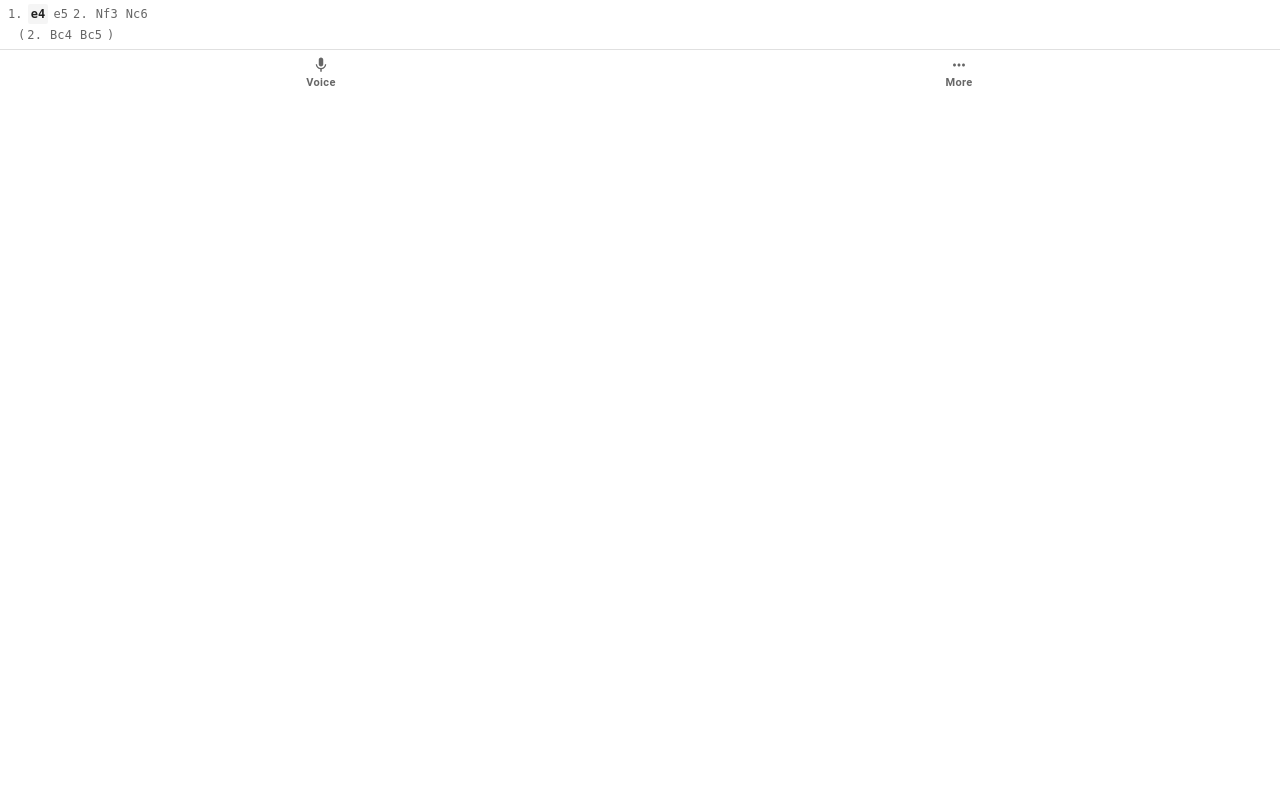
Test: Recording a voice note › mobile: the action sheet and the fixed action bar open the recorder in the sheet
Expected: the button labelled "Voice" is shown, [4,52,638,93]
Click the button labelled "More": (959, 73) [642,52,1276,93]
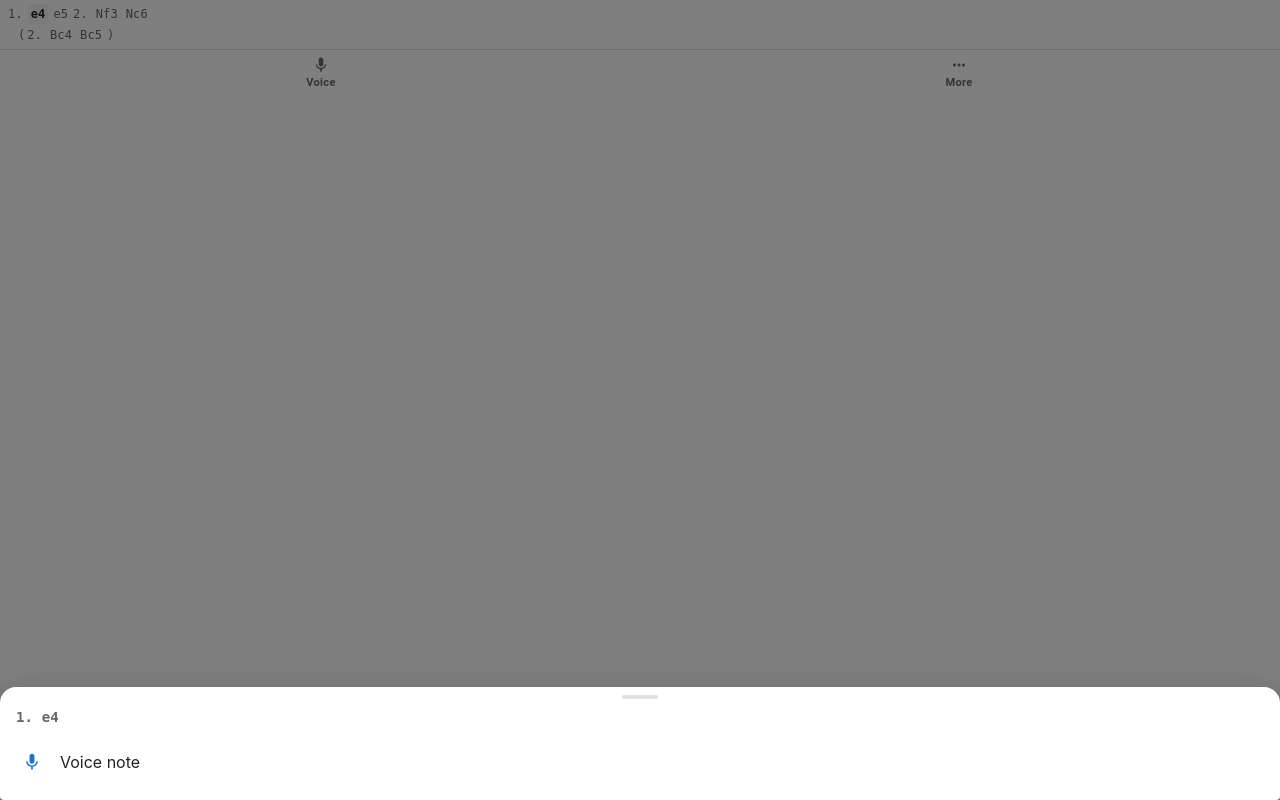
Click the menu item "Voice note": (100, 762) [8,736,1272,788]
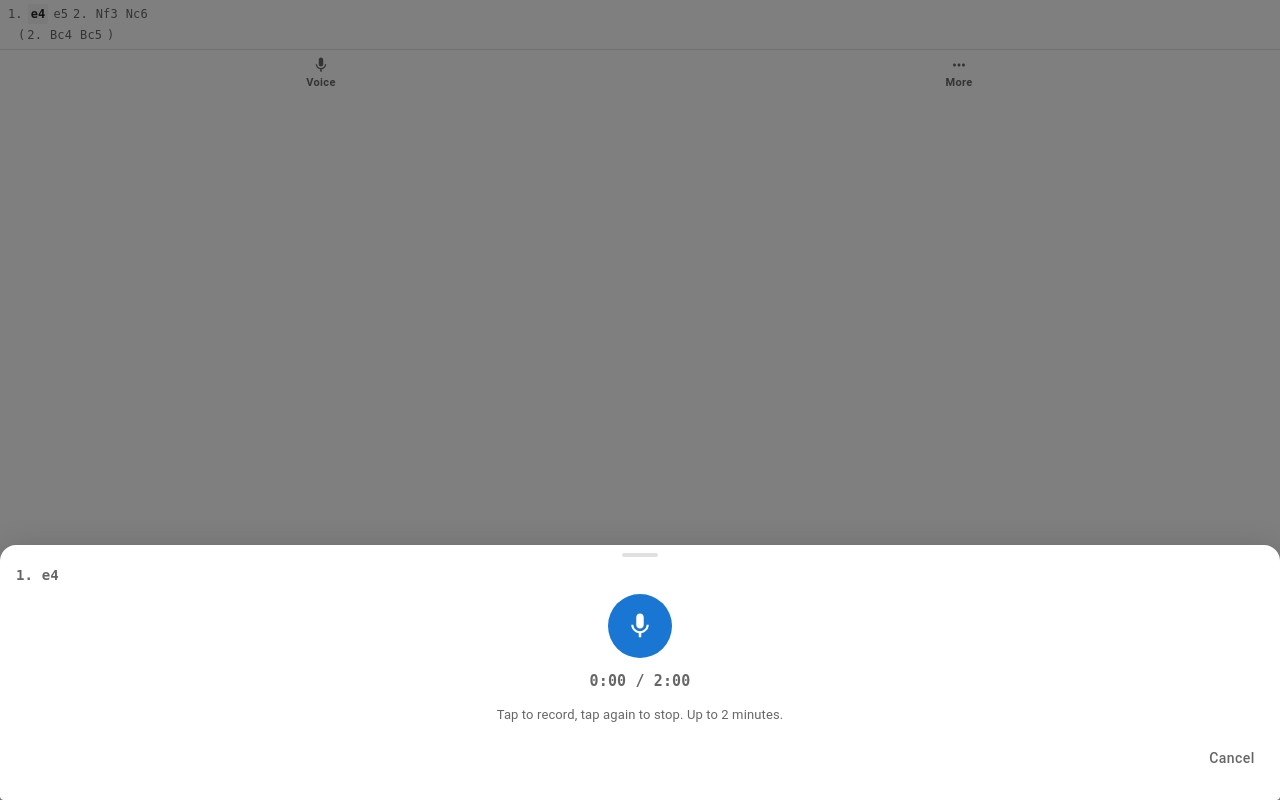
Expected: the element with test id "voice-note-recorder" is shown, [497,594,1264,780]
